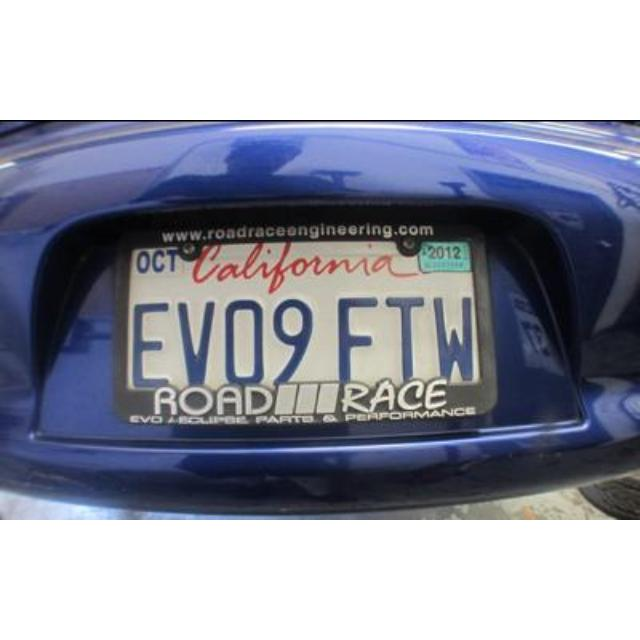plate: (110, 240, 496, 426)
